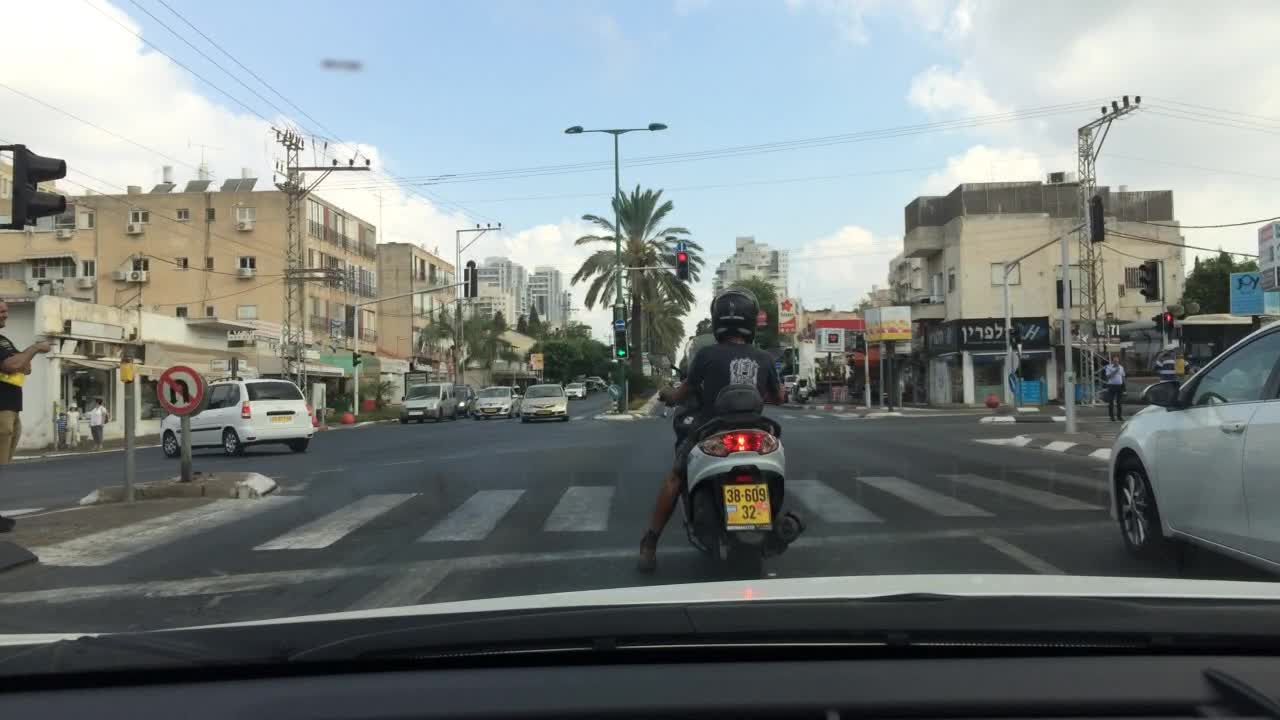car: (1104, 315, 1279, 569), (155, 374, 316, 458), (395, 381, 458, 425), (515, 382, 569, 424), (471, 383, 522, 420), (453, 381, 480, 420), (564, 380, 589, 401), (583, 378, 601, 392), (584, 374, 605, 384)
motor: (654, 377, 811, 581), (790, 374, 817, 405)
person: (0, 295, 51, 534), (1101, 350, 1130, 423), (1147, 342, 1191, 386), (83, 398, 112, 450), (62, 399, 82, 449), (50, 410, 67, 449)
rider: (632, 286, 790, 573)
traffic light: (7, 141, 67, 231), (1137, 259, 1161, 303), (1088, 194, 1106, 245), (462, 260, 479, 299), (612, 327, 629, 360), (1055, 279, 1073, 309), (675, 249, 690, 282), (1149, 310, 1165, 333), (118, 363, 134, 384), (1164, 309, 1174, 333), (350, 349, 362, 367)
traffic sign: (155, 365, 205, 416)
